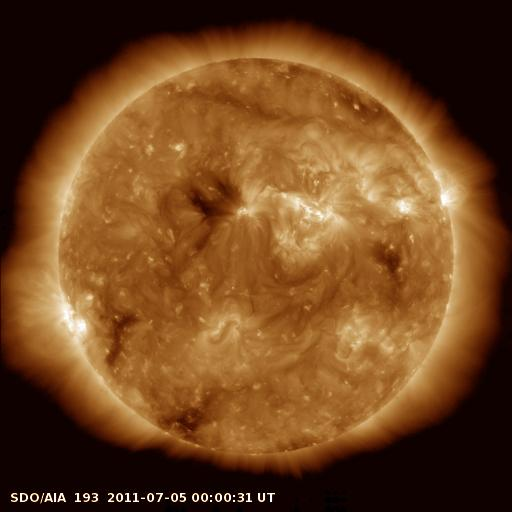coronal_hole: (180, 179, 232, 243), (158, 402, 212, 443), (372, 241, 409, 287)
